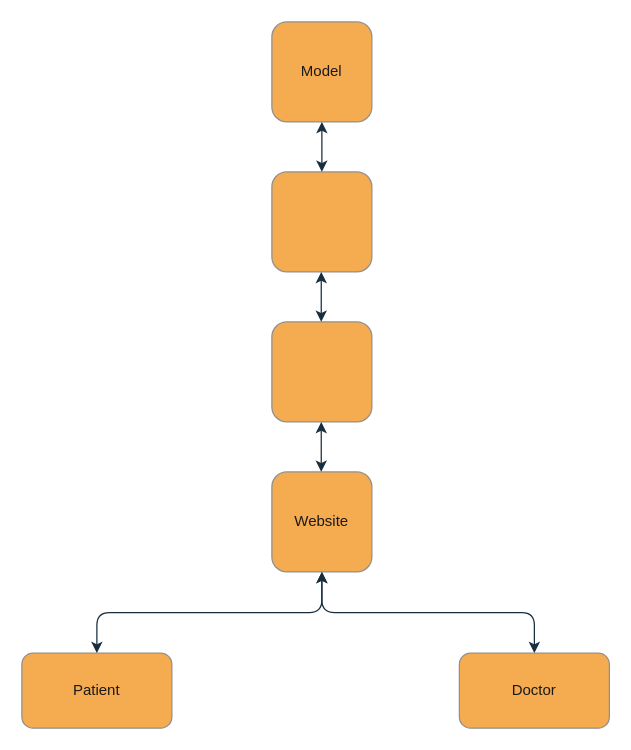
This 631x750 diagram has some shape labels left out. The shapes that lost their labels are listed below. From the top down, each one's box as (x1, y1, x2, y2) in pixels, then its label:
(271, 171, 372, 272): Data Encoder
(271, 321, 372, 422): Server
